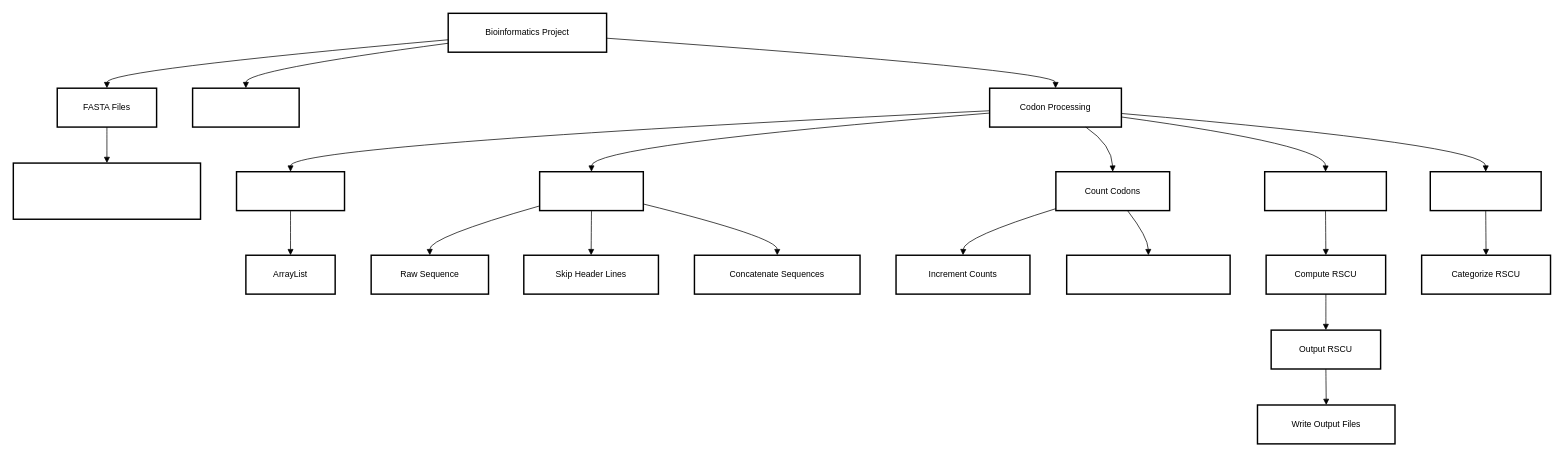
Image size: 1563x456. Some labels were removed from this diagram. Here are the shapes that lost their labels. From the top down, the centre of each, then its label:
At point 246,107: "Output Files".
At point 106,191: "Load Codons from codons.csv".
At point 290,191: "Load Codons".
At point 591,191: "Parse FASTA".
At point 1325,191: "Calculate RSCU".
At point 1485,191: "Get Category".
At point 1148,274: "Loop through Sequence".
